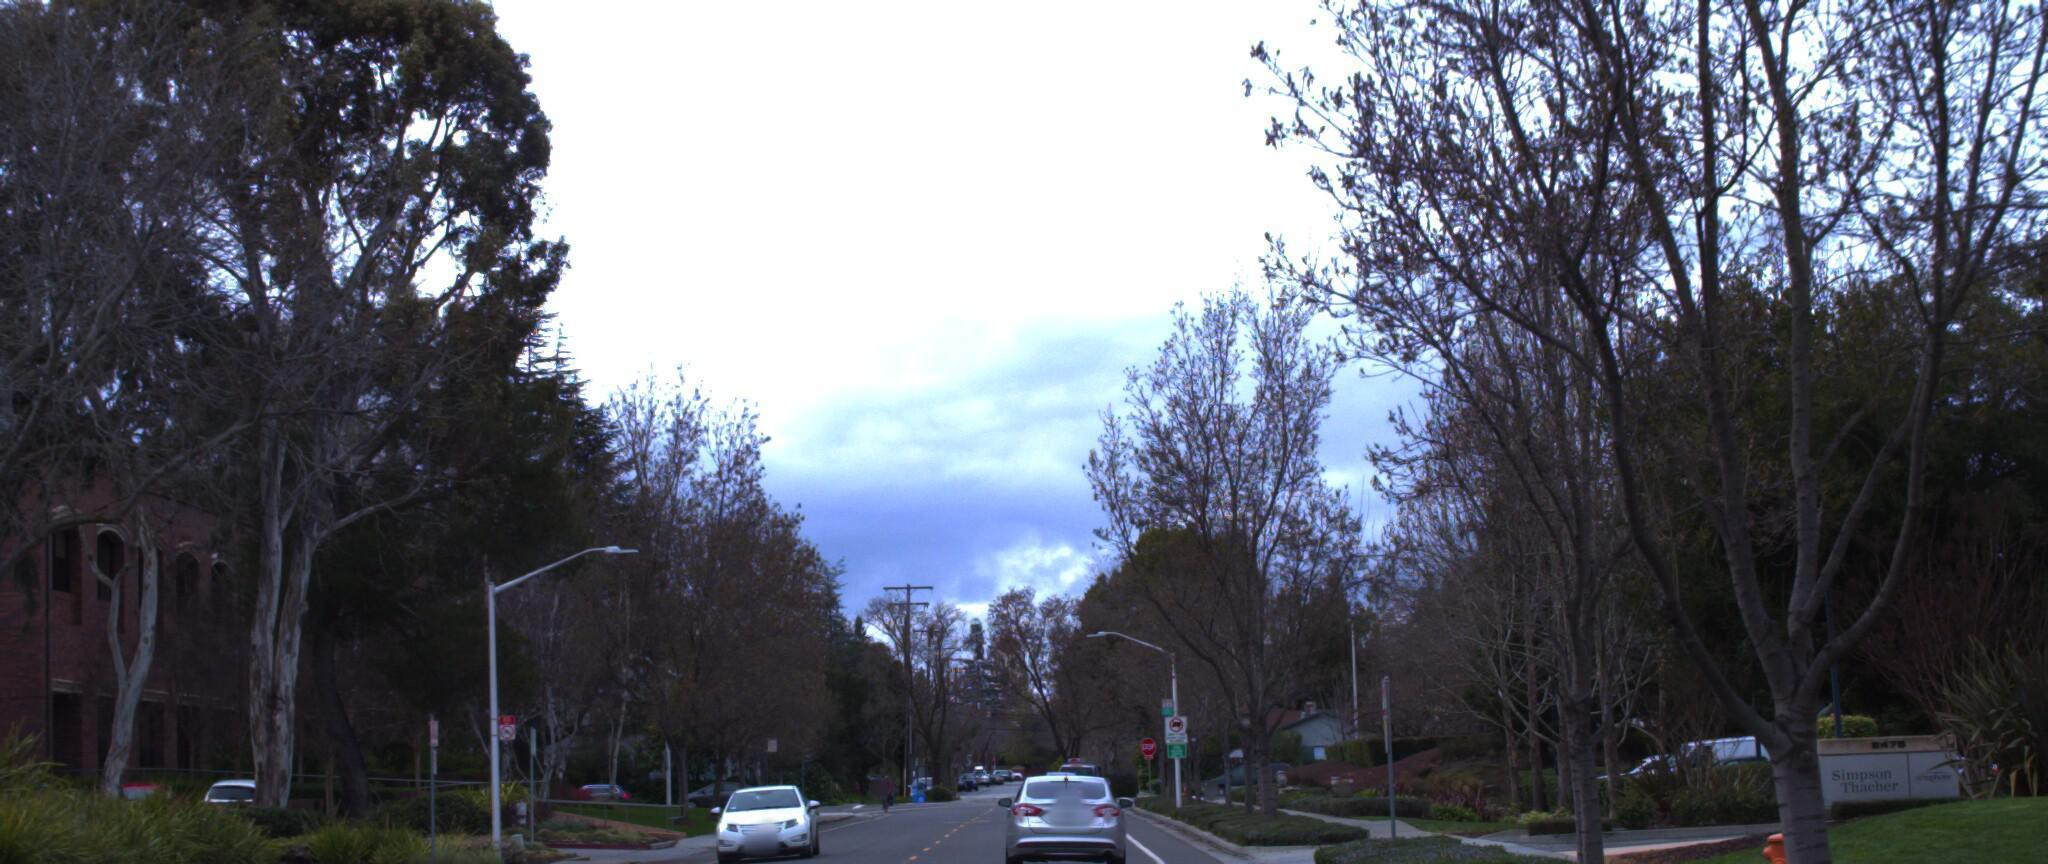car: (987, 750, 1125, 864), (709, 778, 816, 859)
